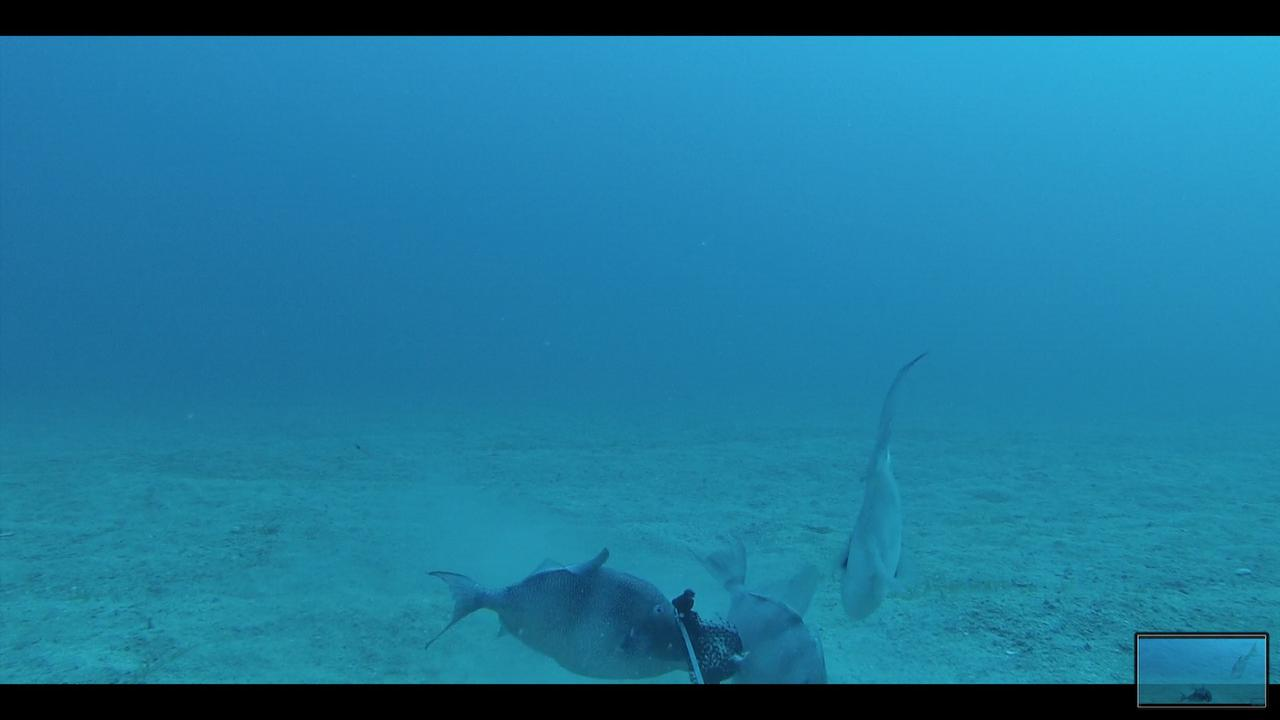balistes: (417, 544, 692, 680), (825, 347, 931, 621), (685, 538, 831, 682)
